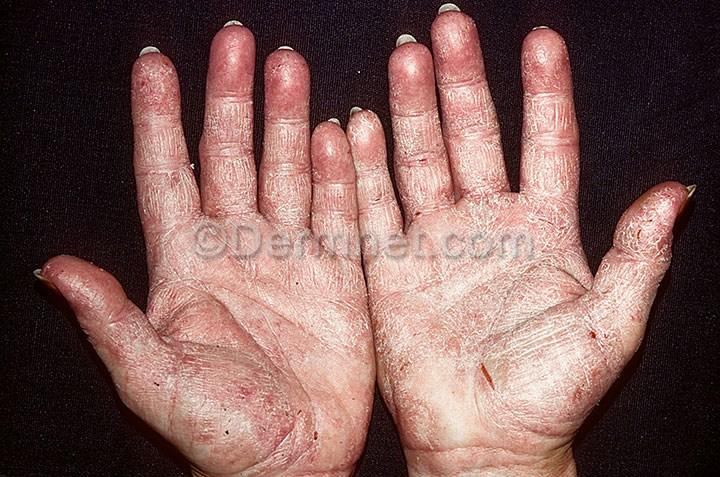Eczema: (181, 358, 316, 451), (434, 342, 537, 435), (558, 293, 637, 368)
